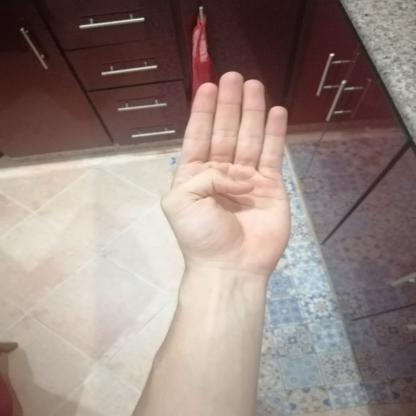KAAF: (142, 57, 313, 288)
